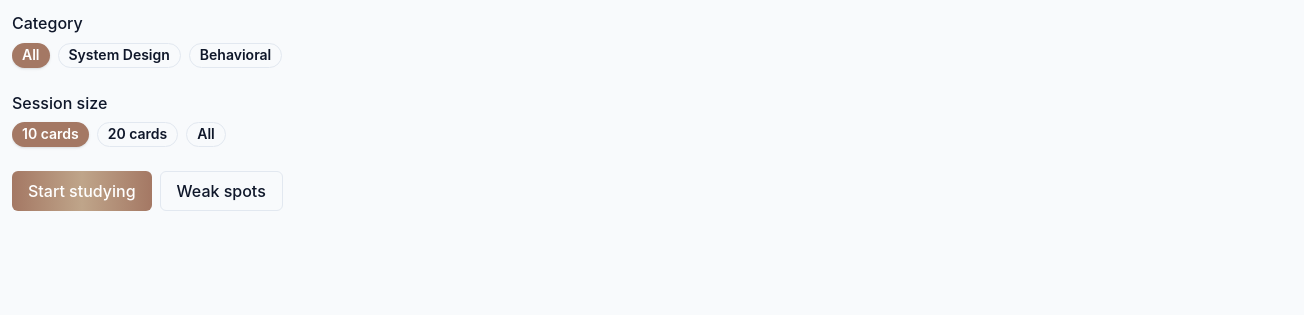
Test: StudyDeck flow › starts a smart session from the setup screen
Click the button "Start studying" at (82, 191), box [12, 171, 152, 211]
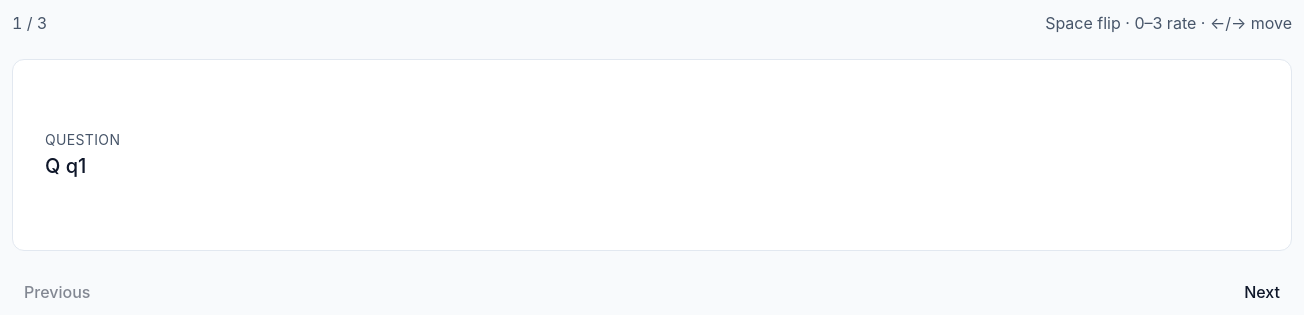
Check: the text "Q q1" is shown, box [45, 154, 86, 178]
Check: the text "1 / 3" is shown, box [12, 12, 47, 35]
